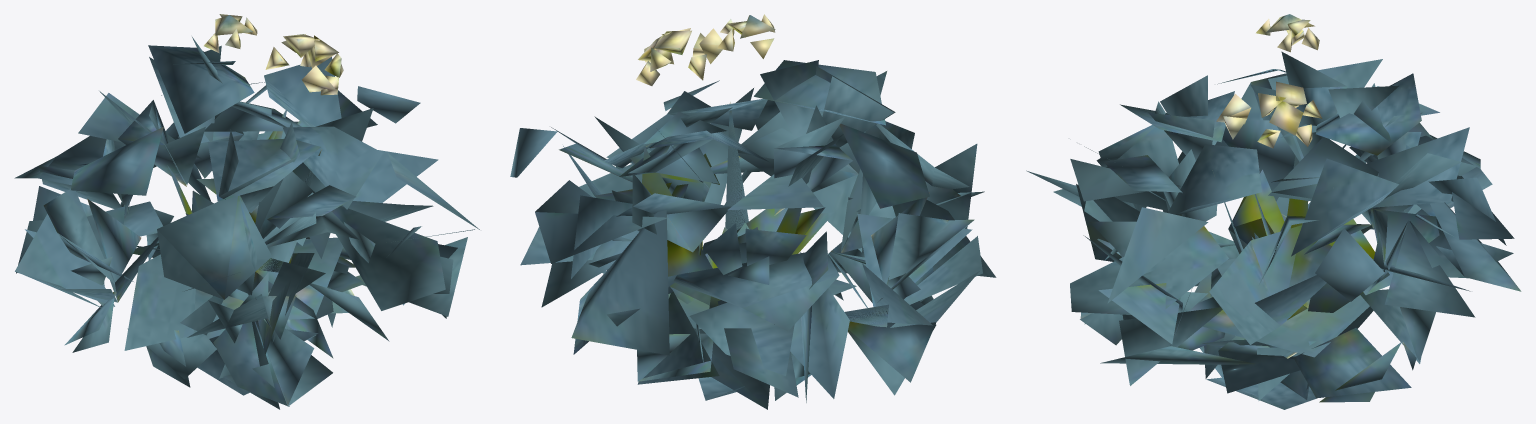
Rendered from crop-sea-kale.lod1.glb.
3 views of the same model, side by side, from view 1: azimuth 30°, elevation 25°; view 2: azimuth 150°, elevation 25°; view 3: azimuth 270°, elevation 25° (orthographic). The views are drawn at different scales.
Visible parts, largest first — view 1: plant.001, fruit.001; view 2: plant.001, fruit.001; view 3: plant.001, fruit.001.
Boxes of the visible parts, <box> form: plant.001: <box>14,37,479,409</box>; fruit.001: <box>87,14,343,281</box>; plant.001: <box>510,60,996,409</box>; fruit.001: <box>583,14,929,345</box>; plant.001: <box>1026,51,1521,409</box>; fruit.001: <box>1214,14,1416,370</box>.
Bounding box in the file's own units: 0.5964 × 0.506 × 0.6103.
1 material, 1 textured.
